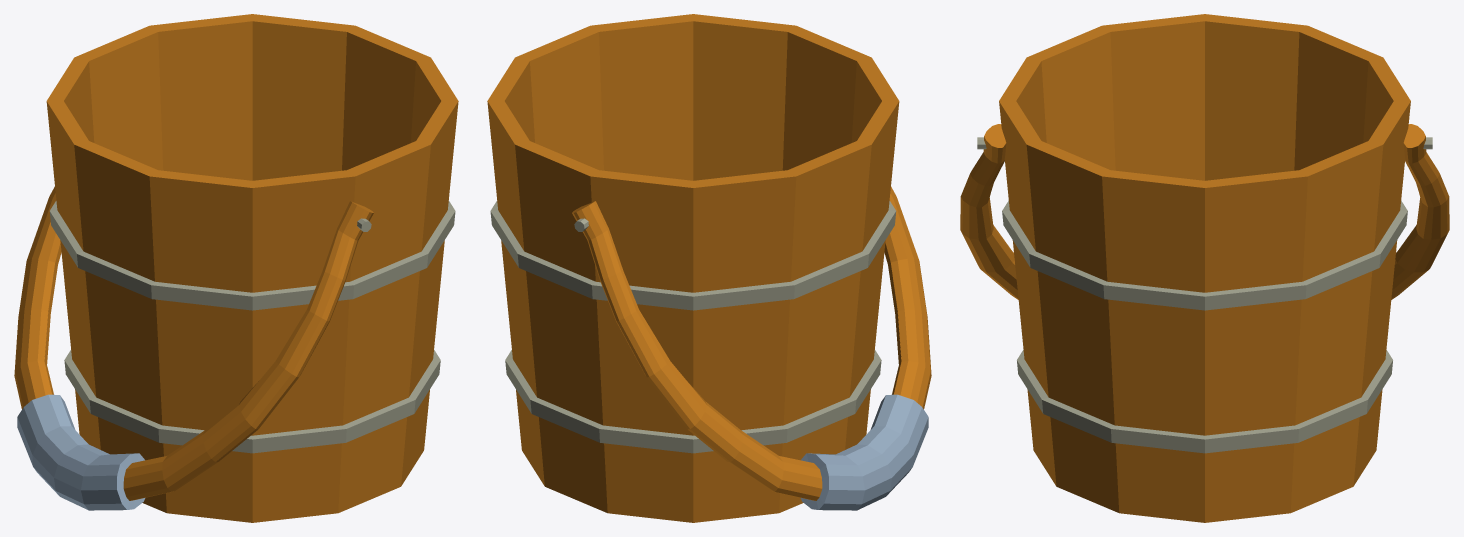
File: bucket.fbx
3 renders of one model, left to right at view 1: azimuth 30°, elevation 25°; view 2: azimuth 150°, elevation 25°; view 3: azimuth 270°, elevation 25°, orthographic.
Parts seen in each view (by area): view 1: bucket, bucket_handler_mesh; view 2: bucket, bucket_handler_mesh; view 3: bucket, bucket_handler_mesh.
Boxes of the visible parts, x1,y1,x2,y2 form: bucket: [46, 14, 458, 522]; bucket_handler_mesh: [14, 186, 373, 510]; bucket: [487, 14, 899, 522]; bucket_handler_mesh: [572, 186, 931, 510]; bucket: [999, 14, 1410, 522]; bucket_handler_mesh: [960, 124, 1449, 299].
Bounding box in the file's own units: 202 × 179 × 227.
